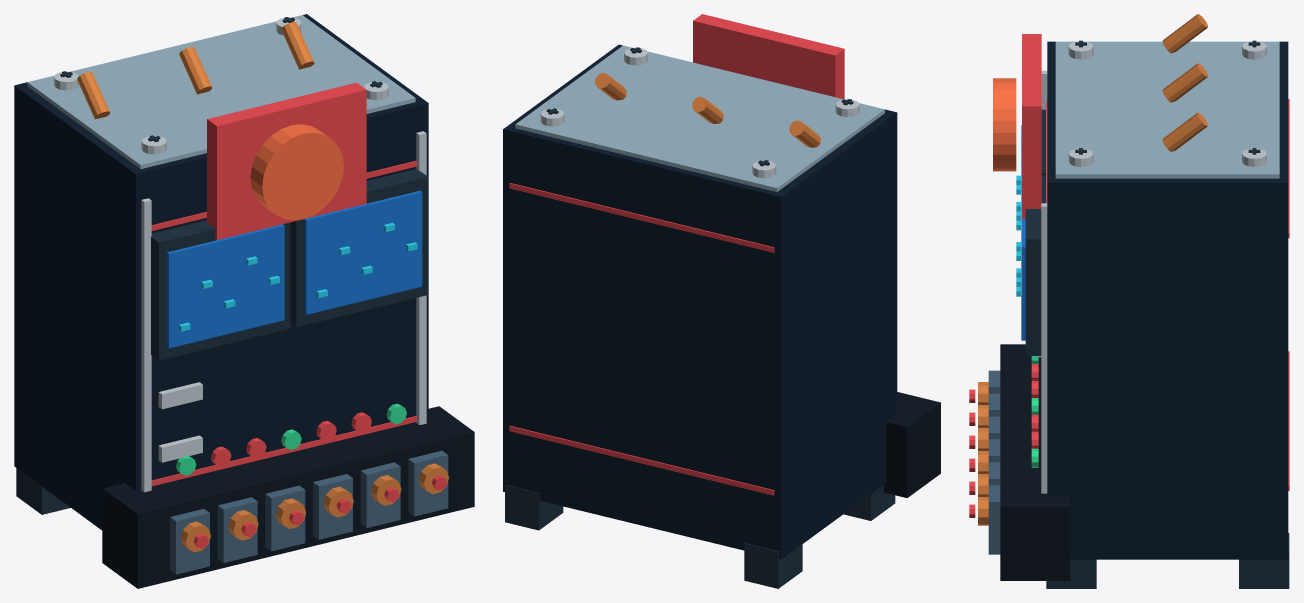
Rendered from 59_L77_CMPEmergencySafetyStation.fbx.
The picture shows the model from 3 angles, left to right: view 1: azimuth 30°, elevation 25°; view 2: azimuth 150°, elevation 25°; view 3: azimuth 270°, elevation 25°; orthographic projection. The views are drawn at different scales.
Visible parts, largest first — view 1: CMPEmergencySafetyStation, CMPEmergencySafetyStation_Part_0077; view 2: CMPEmergencySafetyStation; view 3: CMPEmergencySafetyStation, CMPEmergencySafetyStation_Part_0077.
Part boxes in pixels (left/top/right/bottom): CMPEmergencySafetyStation: left=14, top=14, right=474, bottom=588; CMPEmergencySafetyStation_Part_0077: left=250, top=124, right=343, bottom=220; CMPEmergencySafetyStation: left=503, top=14, right=940, bottom=588; CMPEmergencySafetyStation: left=969, top=14, right=1289, bottom=588; CMPEmergencySafetyStation_Part_0077: left=993, top=78, right=1016, bottom=171.
Bounding box in the file's own units: 99 × 127 × 82.48.
